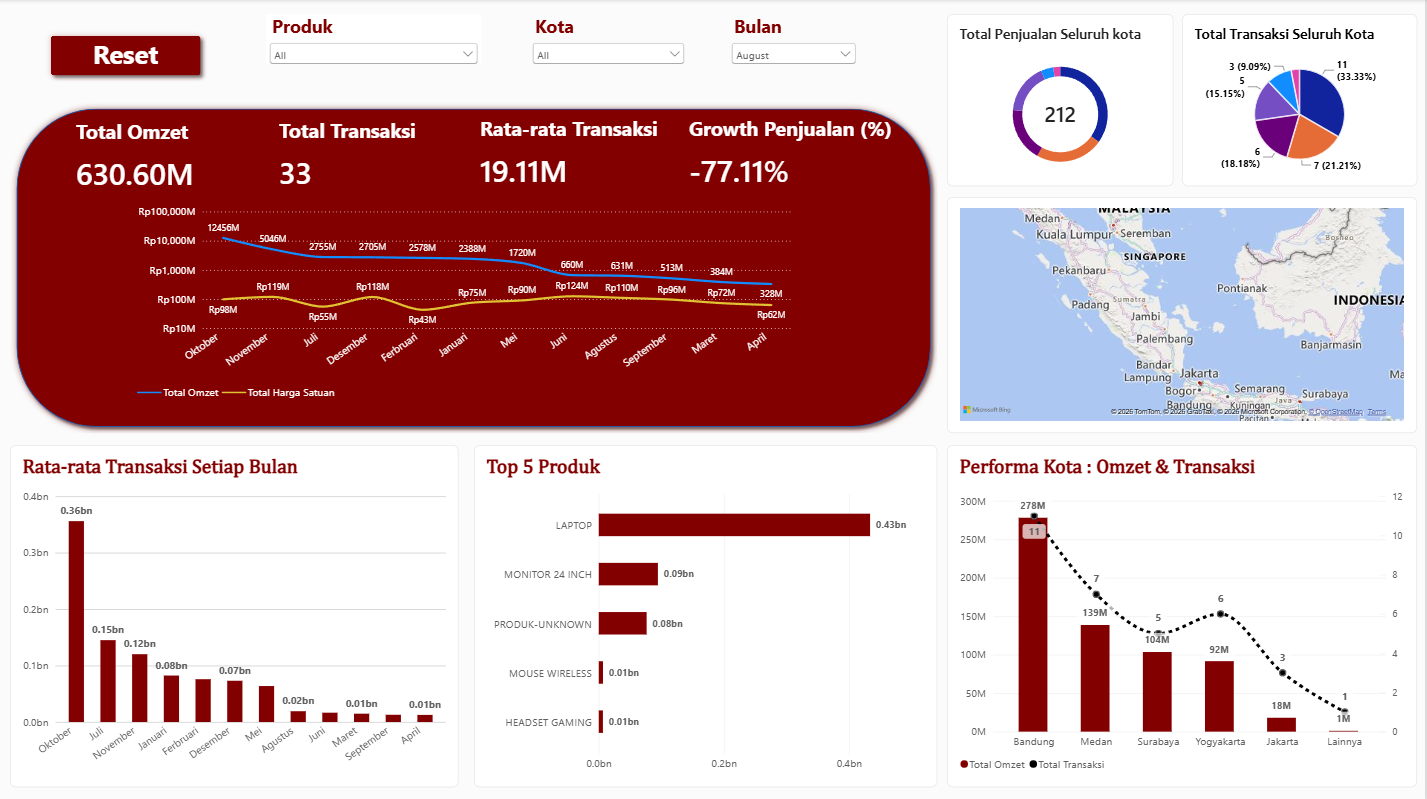

What the dashboard file says about the page in this screenshot:
{"tool":"powerbi","page":{"name":"Duplicate of Duplicate of Page 1","canvas":[1920,1080],"ordinal":0},"visuals":[{"type":"shape","box":[14.6,138.6,1248.9,446.4],"z":0},{"type":"cardVisual","fields":{"Data":["public produksi.Total Omzet"]},"box":[87.5,135.7,300,150],"z":1000},{"type":"lineChart","fields":{"Category":["public produksi.Bulan"],"Y":["public produksi.Total Omzet","public produksi.Total Harga Satuan"]},"box":[170.7,261.2,911.9,299.1],"z":2000},{"type":"slicer","fields":{"Values":["public produksi.Produk"]},"box":[358.9,20.4,290.3,67.1],"z":3000},{"type":"slicer","fields":{"Values":["calendar.Month name"]},"box":[981.9,20.4,176.5,67.1],"z":4000},{"type":"cardVisual","fields":{"Data":["public produksi.Total Transaksi"]},"box":[360.4,134.2,300,150],"z":5000},{"type":"filledMap","fields":{"Category":["public produksi.Kota_Toko"]},"box":[1276.6,267,633.2,318.1],"z":6000},{"type":"slicer","fields":{"Values":["public produksi.Kota_Toko"]},"box":[713.4,20.4,214.5,67.1],"z":7000},{"type":"clusteredColumnChart","title":"Rata-rata Transaksi Setiap Bulan","fields":{"Category":["public produksi.Bulan"],"Y":["public produksi.Rata-rata Transaksi"]},"box":[14.6,601.1,604,461],"z":8000},{"type":"cardVisual","fields":{"Data":["public produksi.Rata-rata Transaksi"]},"box":[631.7,131.3,300,150],"z":9000},{"type":"cardVisual","fields":{"Data":["public produksi.Growth Penjualan (%)"]},"box":[913.3,131.3,319.5,150.3],"z":10000},{"type":"donutChart","fields":{"Category":["public produksi.Kota_Toko"],"Y":["public produksi.Total Quantity"]},"box":[1276.6,20.4,304.9,232],"z":11000},{"type":"clusteredBarChart","title":"Top 5 Produk","fields":{"Category":["public produksi.Produk"],"Y":["public produksi.Total Omzet"]},"box":[639,601.1,624.4,461],"z":12000},{"type":"lineClusteredColumnComboChart","title":"Performa Kota : Omzet & Transaksi","fields":{"Category":["public produksi.Kota_Toko"],"Y":["public produksi.Total Omzet"],"Y2":["public produksi.Total Transaksi"]},"box":[1276.6,601.1,633,461],"z":13000},{"type":"pieChart","title":"Total Transaksi Seluruh Kota","fields":{"Category":["public produksi.Kota_Toko"],"Y":["public produksi.Total Transaksi"]},"box":[1593.2,20.4,316.6,232],"z":14000},{"type":"actionButton","box":[60,40,220,71.4],"z":15000}]}

Visuals, with their boxes in screenshot pixels (x1, y1, x2, y2), scaled from the page's 1920x1080 canvas onto the 1427x799 screenshot:
shape: 11 103 939 433
cardVisual - public produksi.Total Omzet: 65 100 288 211
lineChart - public produksi.Bulan x public produksi.Total Omzet: 127 193 805 415
slicer - public produksi.Produk: 267 15 483 65
slicer - calendar.Month name: 730 15 861 65
cardVisual - public produksi.Total Transaksi: 268 99 491 210
filledMap - public produksi.Kota_Toko: 949 198 1419 433
slicer - public produksi.Kota_Toko: 530 15 690 65
"Rata-rata Transaksi Setiap Bulan" clusteredColumnChart: 11 445 460 786
cardVisual - public produksi.Rata-rata Transaksi: 469 97 692 208
cardVisual - public produksi.Growth Penjualan (%): 679 97 916 208
donutChart - public produksi.Kota_Toko x public produksi.Total Quantity: 949 15 1175 187
"Top 5 Produk" clusteredBarChart: 475 445 939 786
"Performa Kota : Omzet & Transaksi" lineClusteredColumnComboChart: 949 445 1419 786
"Total Transaksi Seluruh Kota" pieChart: 1184 15 1419 187
actionButton: 45 30 208 82
